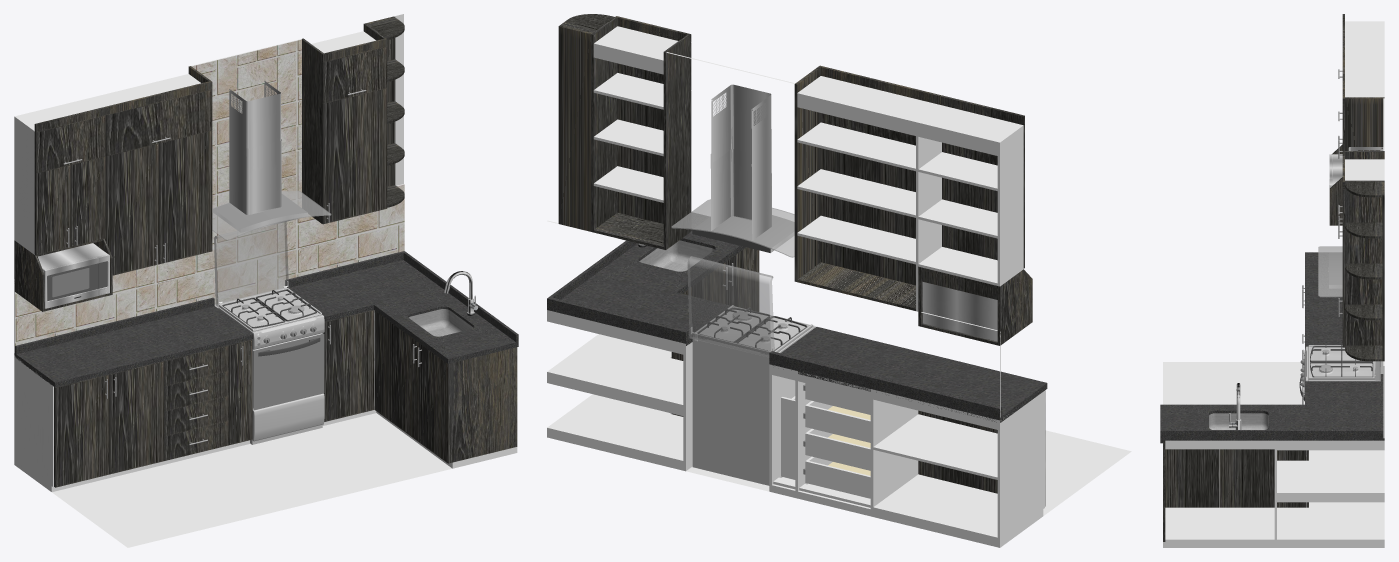
File: cocina.glb
3 views of the same model, side by side, from view 1: azimuth 30°, elevation 25°; view 2: azimuth 150°, elevation 25°; view 3: azimuth 270°, elevation 25° (orthographic). The views are drawn at different scales.
Parts seen in each view (by area): view 1: Material2 (×14), Material3 (×3); view 2: Material2 (×11), Material3; view 3: Material2 (×11), Material3.
Boxes of the visible parts, box(x1,y1,x2,y2) form: Material2 (×14): box(14, 14, 518, 547); Material3 (×3): box(47, 194, 306, 300); Material2 (×11): box(547, 14, 1131, 547); Material3: box(692, 215, 794, 252); Material2 (×11): box(1160, 14, 1384, 547); Material3: box(1329, 253, 1342, 284).
Size of the model in its own units: 130 by 114 by 66.54.
29 materials, 14 textured.
